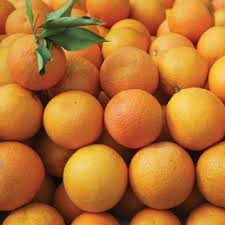orange: (59, 143, 129, 211), (123, 140, 194, 207), (162, 86, 225, 149), (104, 89, 165, 150), (41, 90, 106, 147), (11, 31, 68, 90), (101, 49, 159, 96)
